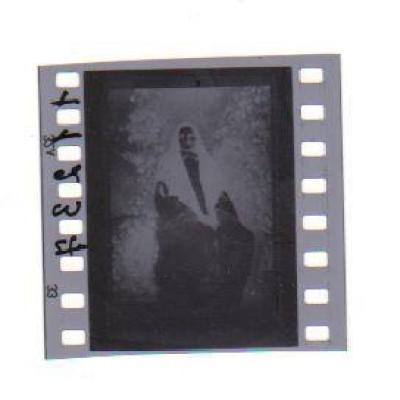photos_negatives: (51, 52, 301, 350)
